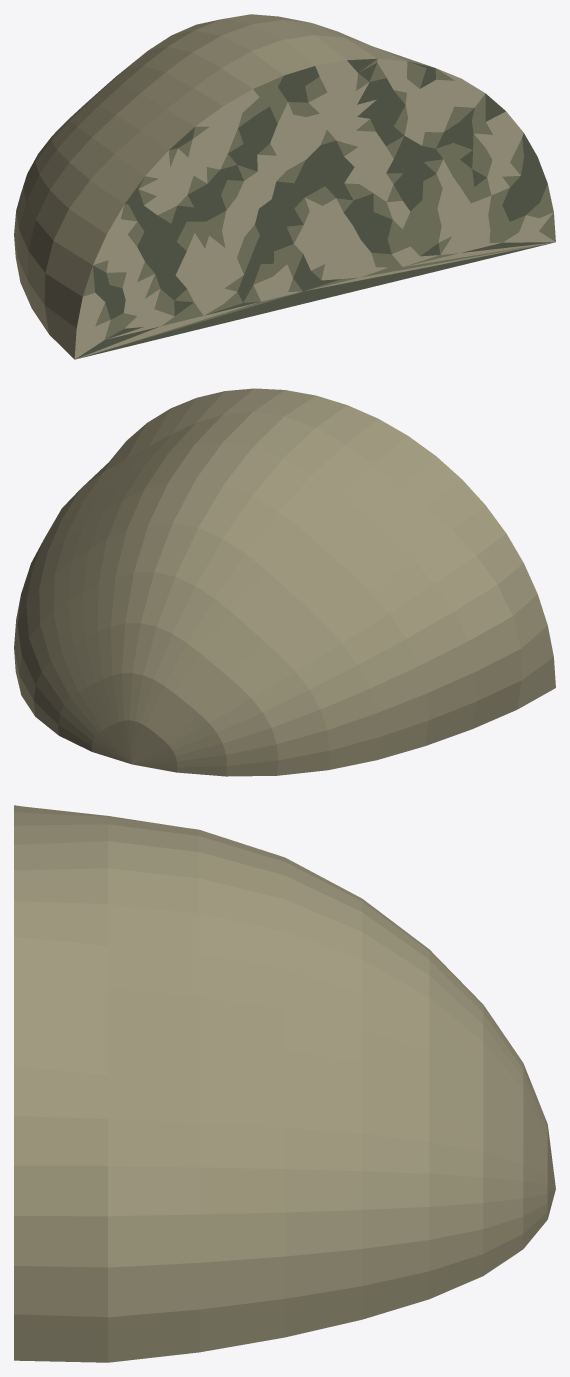
3 renders of one model, top to bottom at view 1: azimuth 30°, elevation 25°; view 2: azimuth 150°, elevation 25°; view 3: azimuth 270°, elevation 25°, orthographic. The views are drawn at different scales.
Visible parts, largest first — view 1: one-continuous-mound-with-integrated-clotted-cut; view 2: one-continuous-mound-with-integrated-clotted-cut; view 3: one-continuous-mound-with-integrated-clotted-cut.
Boxes of the visible parts, <box> form: one-continuous-mound-with-integrated-clotted-cut: <box>14,14,555,359</box>; one-continuous-mound-with-integrated-clotted-cut: <box>14,388,555,776</box>; one-continuous-mound-with-integrated-clotted-cut: <box>14,805,555,1362</box>.
Size of the model in its own units: 0.6045 by 0.2831 by 0.4.
